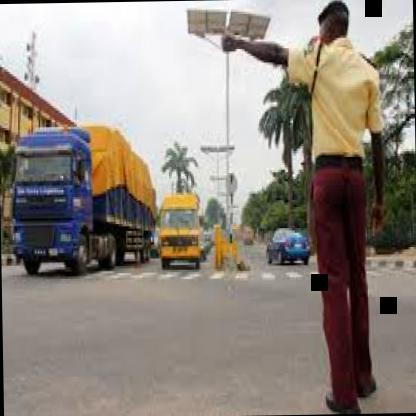car: (5, 90, 172, 286), (152, 190, 210, 269), (264, 214, 313, 270)
